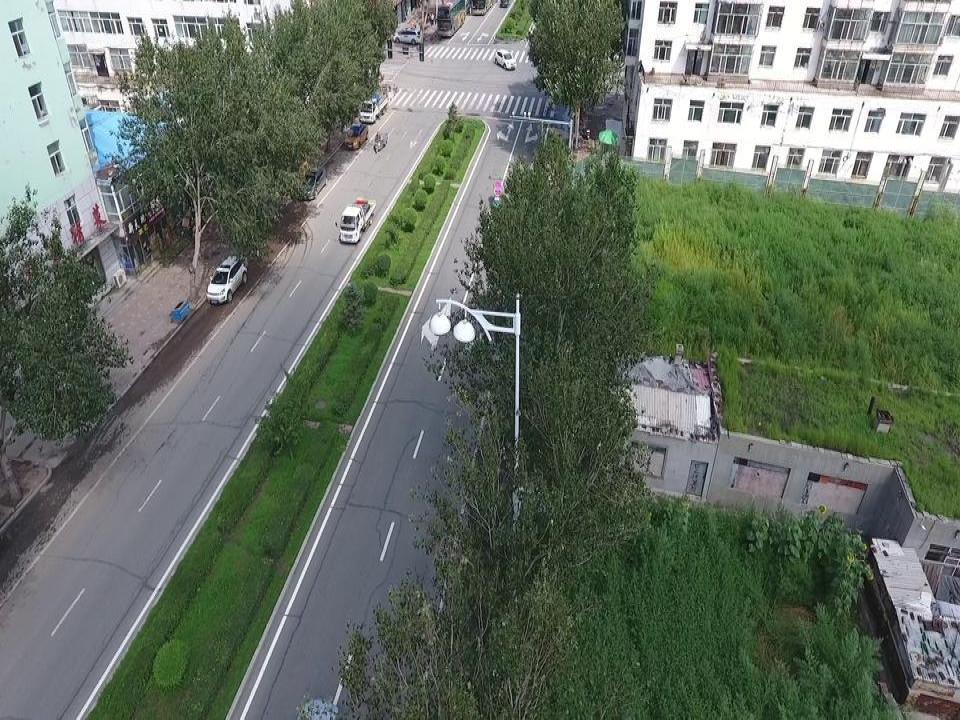bus: (435, 0, 467, 37), (470, 0, 498, 16)
car: (205, 255, 248, 304), (298, 165, 328, 200), (344, 124, 369, 149), (391, 27, 422, 45), (493, 48, 517, 71), (499, 0, 509, 8)
truck: (335, 197, 376, 244), (359, 85, 389, 124)
